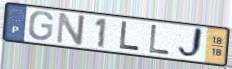1: (94, 17, 108, 49)
G: (27, 10, 55, 42)
J: (176, 25, 205, 60)
L: (148, 23, 172, 56), (118, 19, 141, 53)
N: (55, 11, 87, 47)
